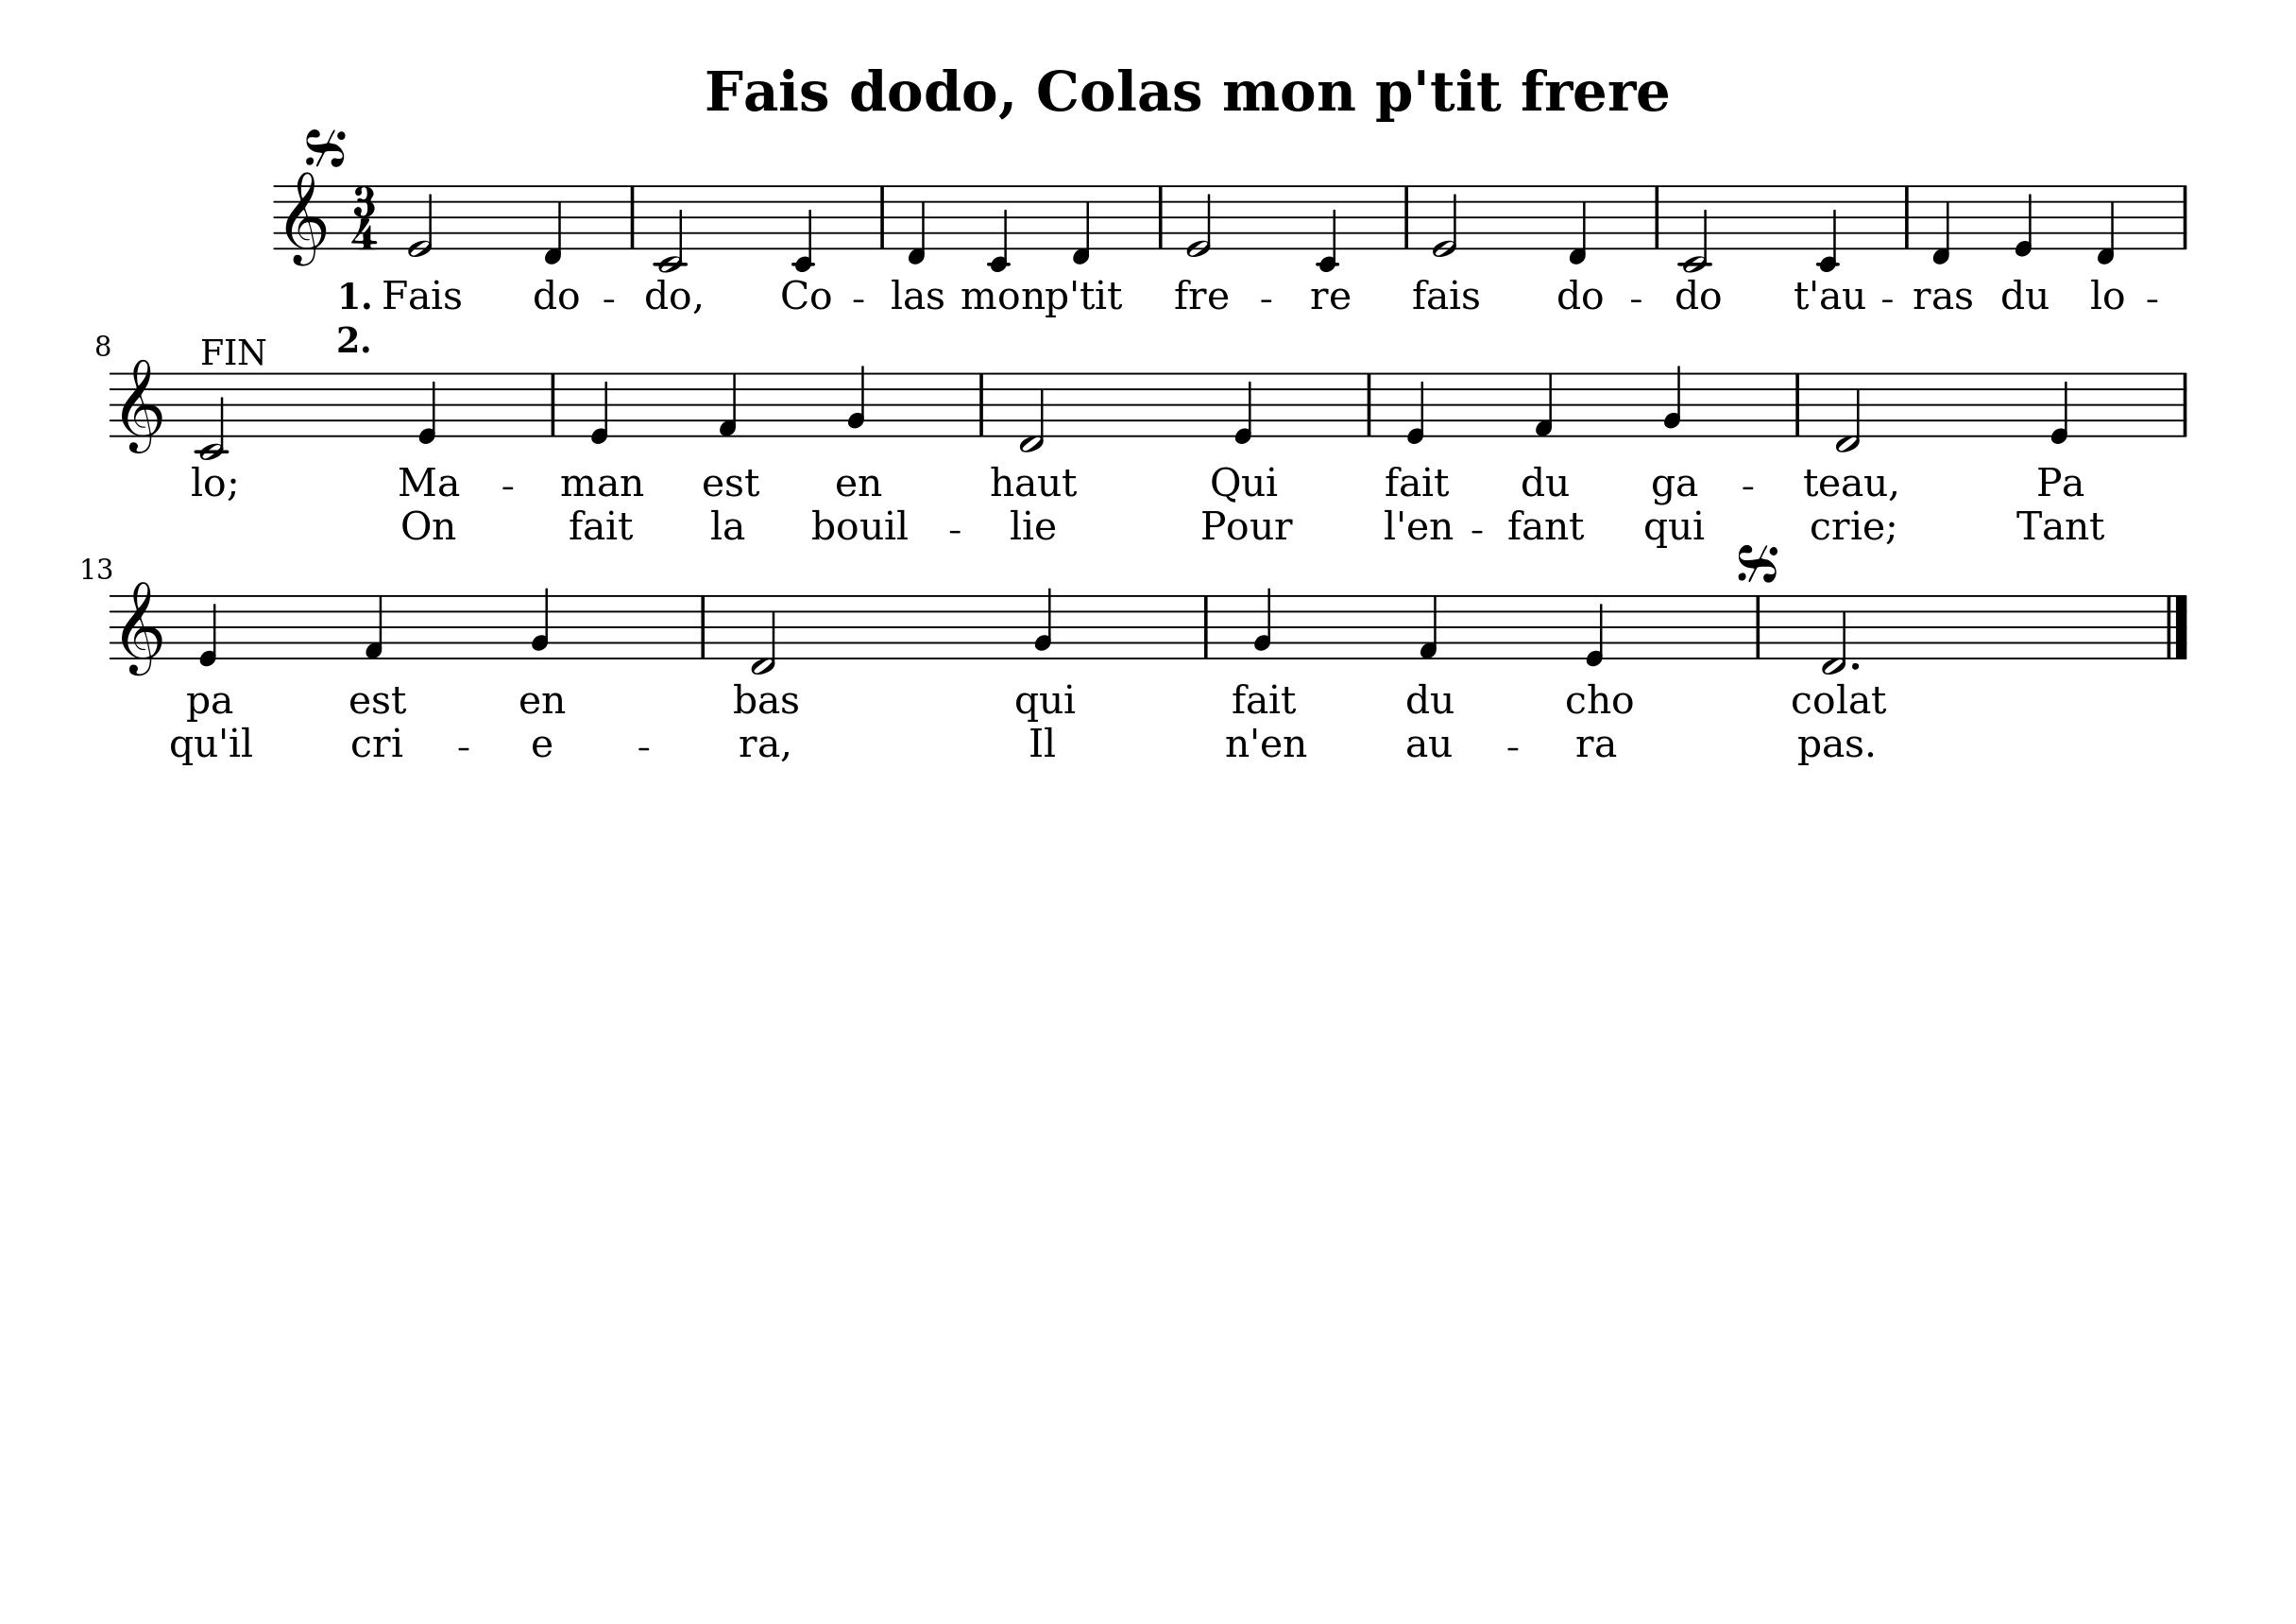1: (79, 554, 93, 582)
2_-1: (748, 591, 780, 675), (1017, 369, 1047, 455), (1834, 369, 1864, 453), (1820, 592, 1850, 677)
2_-2: (1679, 183, 1711, 272), (197, 371, 228, 460), (657, 183, 685, 272)
2_0: (1186, 181, 1214, 258), (1432, 181, 1460, 258), (406, 183, 434, 258)
3: (350, 181, 379, 216), (95, 554, 114, 582)
4: (348, 213, 381, 246)
4_-1: (906, 181, 931, 265), (1567, 181, 1590, 265), (1072, 183, 1094, 265), (2094, 183, 2117, 265), (543, 183, 564, 265), (1931, 183, 1952, 265)
4_-2: (1815, 183, 1841, 272), (792, 181, 817, 272), (987, 181, 1012, 272), (1316, 181, 1340, 271)
4_0: (2048, 369, 2071, 446), (416, 369, 439, 445), (588, 369, 611, 445), (1233, 369, 1256, 445), (1405, 369, 1428, 445), (197, 592, 220, 666), (1585, 591, 1606, 668), (2013, 183, 2034, 258)
4_1: (362, 592, 385, 659), (1418, 592, 1440, 659), (718, 371, 740, 438), (1534, 371, 1555, 438)
4_2: (1033, 584, 1056, 661), (1253, 584, 1275, 661), (1662, 362, 1685, 438), (847, 362, 868, 438), (531, 585, 552, 661)
8: (93, 332, 112, 359)
Final_barline: (2162, 594, 2189, 657)
Gclef: (285, 169, 325, 267), (121, 357, 162, 453), (121, 580, 162, 677)
Segno: (302, 123, 351, 170), (1734, 540, 1781, 585)
Single_barline: (2173, 371, 2194, 436), (1788, 371, 1808, 436), (1648, 185, 1665, 250), (694, 594, 711, 659), (624, 185, 641, 248), (545, 373, 562, 436), (1750, 596, 1767, 659), (2177, 185, 2192, 250), (877, 183, 887, 257), (975, 373, 986, 441), (1365, 371, 1375, 439), (1156, 181, 1165, 258), (1200, 592, 1209, 664), (993, 218, 1001, 288)
TimeSig: (348, 183, 381, 250)
dot: (228, 475, 239, 485), (1850, 661, 1860, 671)
